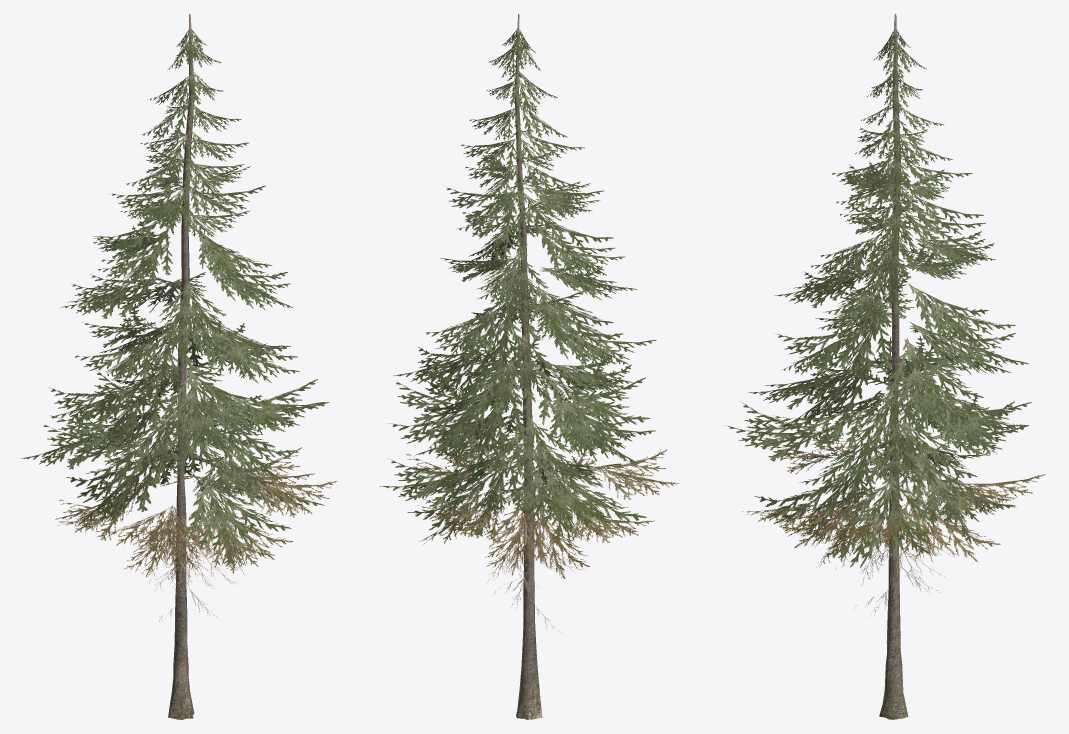
File: spruce1_LOD2.fbx
3 views of the same model, side by side, from view 1: azimuth 30°, elevation 25°; view 2: azimuth 150°, elevation 25°; view 3: azimuth 270°, elevation 25° (orthographic).
Parts seen in each view (by area): view 1: spruce 2_1, spruce 1_0; view 2: spruce 2_1, spruce 1_0; view 3: spruce 2_1, spruce 1_0.
Part boxes in pixels (bbox=[...]): spruce 2_1: bbox=[21, 29, 336, 621]; spruce 1_0: bbox=[168, 14, 194, 719]; spruce 2_1: bbox=[379, 29, 678, 633]; spruce 1_0: bbox=[514, 14, 542, 719]; spruce 2_1: bbox=[724, 30, 1045, 614]; spruce 1_0: bbox=[879, 14, 908, 719].
Bounding box in the file's own units: 837 × 2028 × 883.
Materials: 2 (2 with a texture image).
